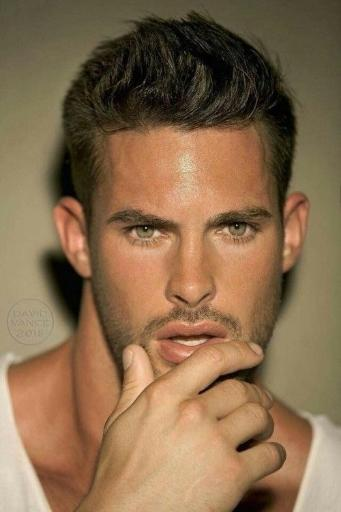left_eye: (215, 218, 261, 241)
left_lip_corner: (212, 330, 233, 347)
right_eye: (121, 221, 172, 244)
right_lip_corner: (154, 332, 173, 348)
